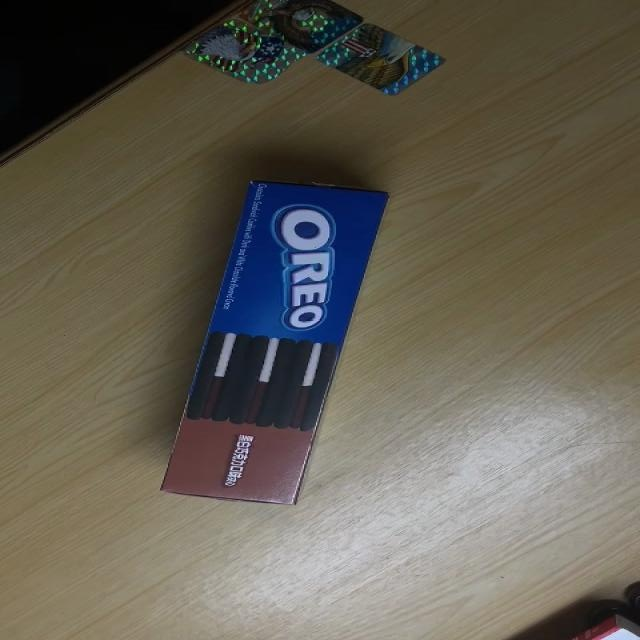Oreo: (158, 182, 395, 508)
